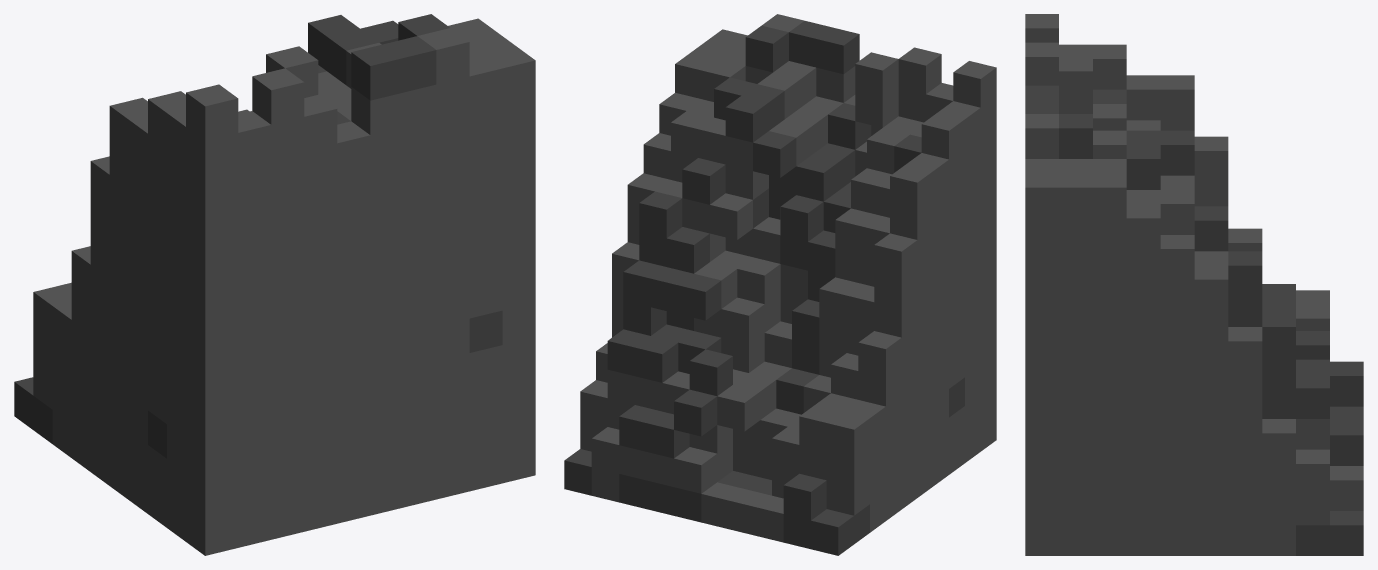
File: Stein_Rand-ebene-03.obj
3 views of the same model, side by side, from view 1: azimuth 30°, elevation 25°; view 2: azimuth 150°, elevation 25°; view 3: azimuth 270°, elevation 25° (orthographic). The views are drawn at different scales.
Size of the model in its own units: 1 by 1.3 by 1.
1 material, 1 textured.
